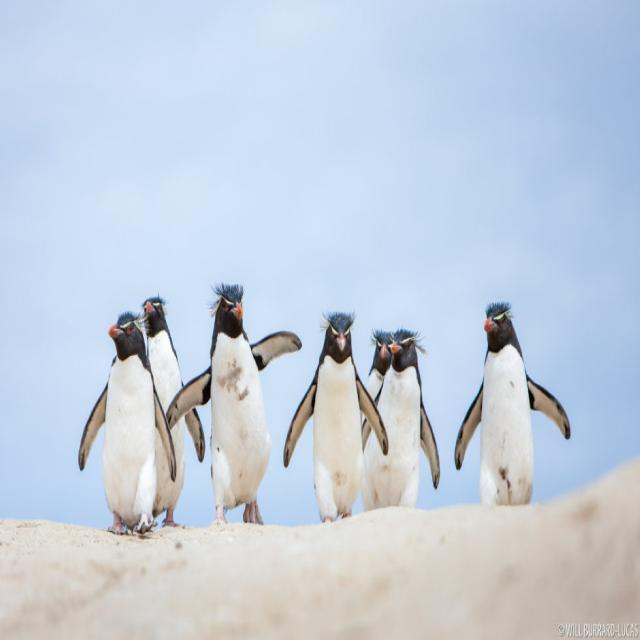Penguins: (211, 278, 267, 527), (475, 296, 537, 516), (136, 294, 189, 540), (100, 311, 156, 539), (308, 305, 365, 521), (379, 322, 425, 522), (371, 328, 397, 522)
